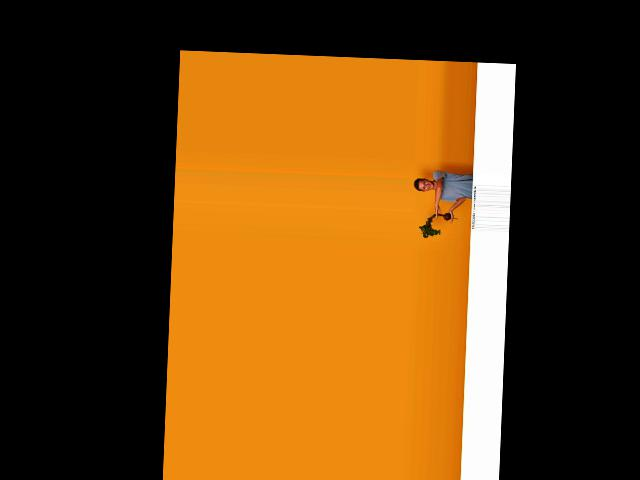beet: (418, 212, 457, 239)
